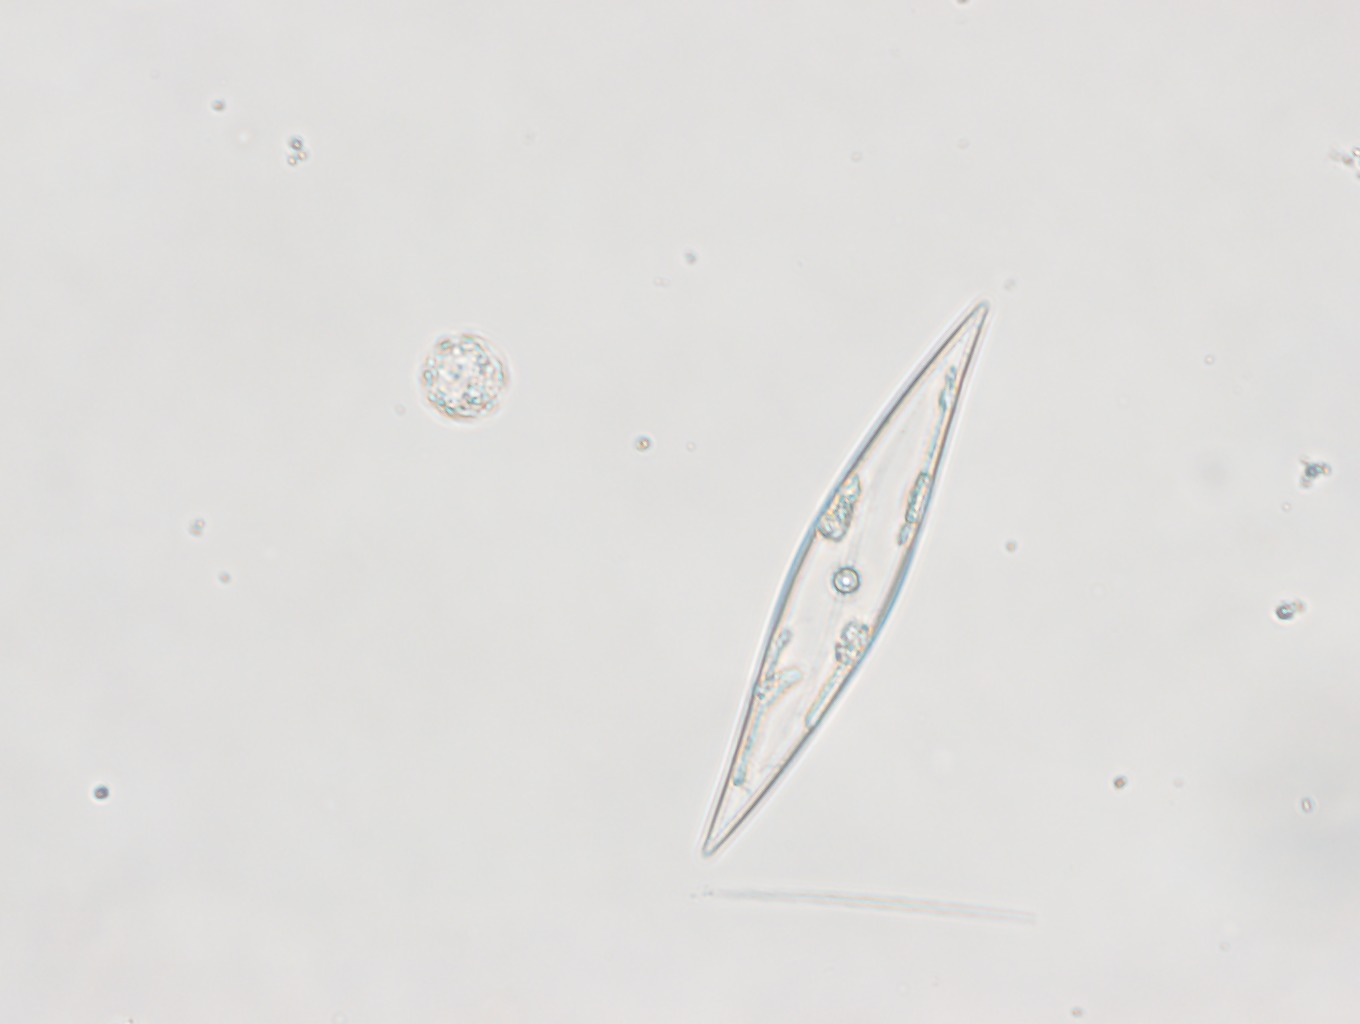pleurosigma pelagicum: (699, 299, 989, 861)
